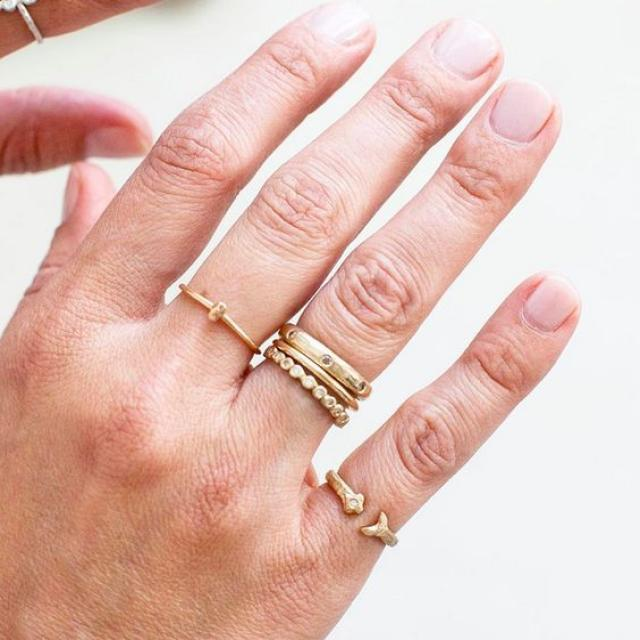Fingernail: (490, 80, 553, 143), (433, 19, 497, 78), (523, 278, 577, 336), (306, 3, 369, 48), (84, 123, 147, 162)
